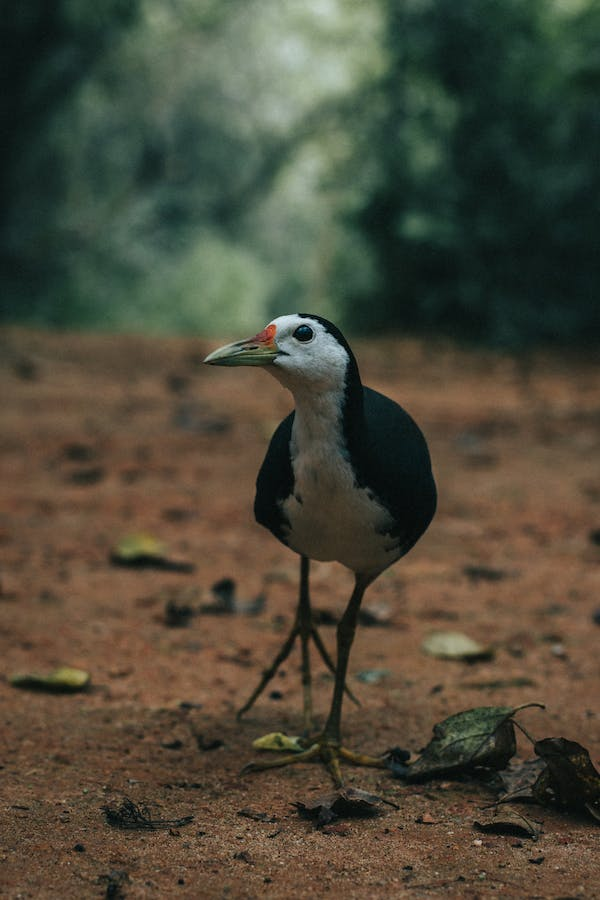Walking: (187, 276, 461, 817)
